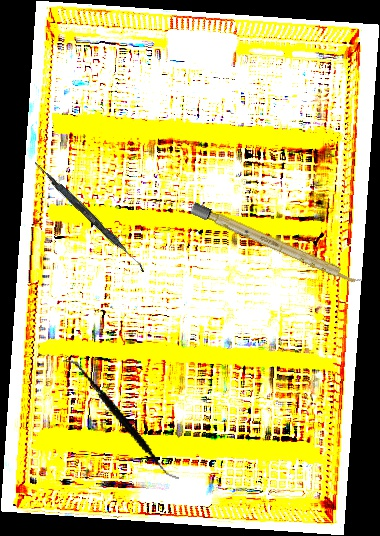Scalpel Handle: (189, 201, 364, 289)
Spatula Surgical: (38, 357, 204, 482), (30, 160, 150, 273)
